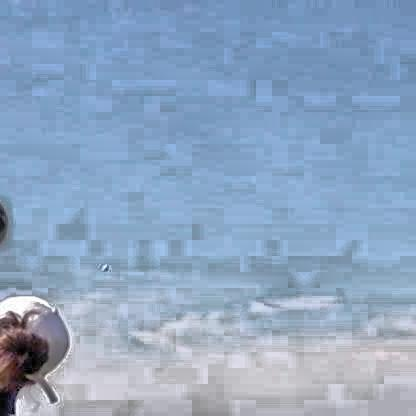golfball: (98, 261, 106, 269)
